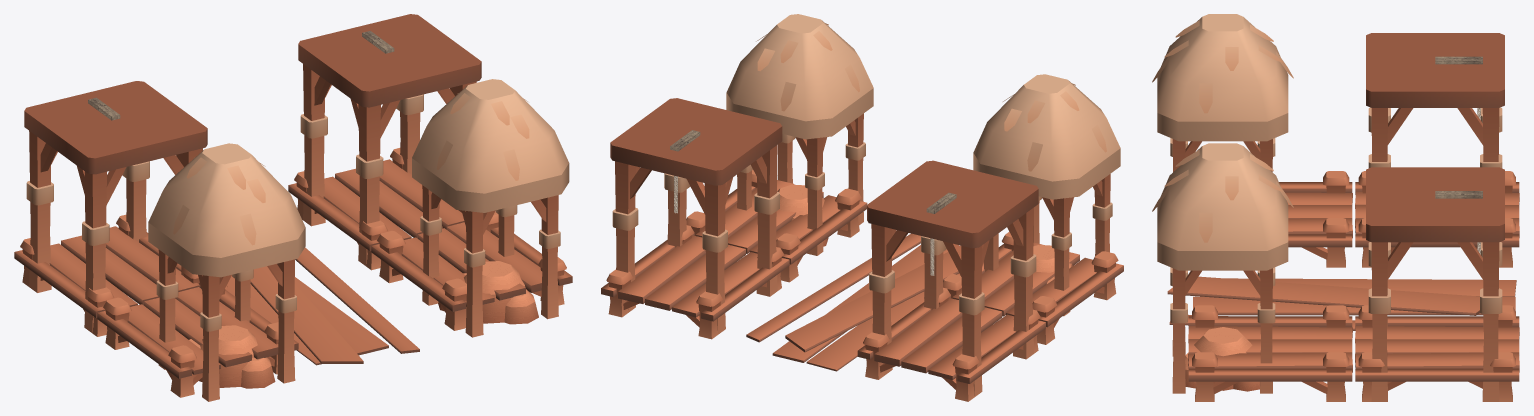
Rendered from london_yard_3.glb.
3 renders of one model, left to right at view 1: azimuth 30°, elevation 25°; view 2: azimuth 150°, elevation 25°; view 3: azimuth 270°, elevation 25°, orthographic. The views are drawn at different scales.
Parts seen in each view (by area): view 1: structure-roof_6, structure-roof_5, structure_7, structure_8, structure-platform-dock_2, platform-planks_4, structure-platform-dock_3, structure-platform-dock_0, structure-platform-dock_1, cargo-pile-a_12, cargo-pile-a_11; view 2: structure_7, structure_8, structure-roof_6, structure-roof_5, structure-platform-dock_1, structure-platform-dock_0, platform-planks_4, structure-platform-dock_2, structure-platform-dock_3, cargo-pile-a_12, cargo-pile-a_11, pulley_9; view 3: structure-roof_6, structure_8, structure-roof_5, structure_7, structure-platform-dock_3, structure-platform-dock_1, platform-planks_4, structure-platform-dock_2, structure-platform-dock_0, cargo-pile-a_12, pulley_9, pulley_10.
Part boxes in pixels (x1,y1,x2,y2): structure-roof_6: [412, 79, 569, 337]; structure-roof_5: [148, 143, 305, 401]; structure_7: [24, 81, 207, 333]; structure_8: [298, 14, 481, 266]; structure-platform-dock_2: [97, 282, 298, 397]; platform-planks_4: [225, 247, 419, 365]; structure-platform-dock_3: [371, 211, 572, 330]; structure-platform-dock_0: [14, 214, 201, 336]; structure-platform-dock_1: [288, 148, 464, 270]; cargo-pile-a_12: [438, 261, 538, 324]; cargo-pile-a_11: [189, 325, 275, 388]; structure_7: [867, 160, 1038, 396]; structure_8: [610, 98, 782, 334]; structure-roof_6: [726, 14, 873, 255]; structure-roof_5: [973, 74, 1120, 316]; structure-platform-dock_1: [601, 225, 789, 339]; structure-platform-dock_0: [857, 287, 1045, 401]; platform-planks_4: [746, 233, 961, 371]; structure-platform-dock_2: [943, 232, 1123, 344]; structure-platform-dock_3: [686, 170, 867, 282]; cargo-pile-a_12: [777, 184, 828, 246]; cargo-pile-a_11: [1033, 245, 1072, 283]; pulley_9: [926, 192, 956, 275]; structure-roof_6: [1152, 143, 1293, 393]; structure_8: [1366, 167, 1504, 401]; structure-roof_5: [1152, 14, 1293, 171]; structure_7: [1366, 33, 1504, 267]; structure-platform-dock_3: [1188, 305, 1352, 401]; structure-platform-dock_1: [1355, 305, 1519, 401]; platform-planks_4: [1167, 276, 1516, 330]; structure-platform-dock_2: [1279, 171, 1352, 267]; structure-platform-dock_0: [1355, 171, 1519, 267]; cargo-pile-a_12: [1185, 327, 1259, 391]; pulley_9: [1435, 56, 1482, 120]; pulley_10: [1435, 191, 1482, 254].
Size of the model in its own units: 23 by 12.24 by 18.5.
7 materials, 7 textured.
